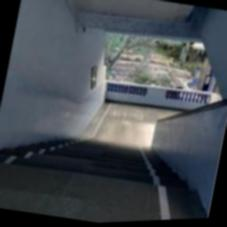Animal: (20, 117, 162, 209)
